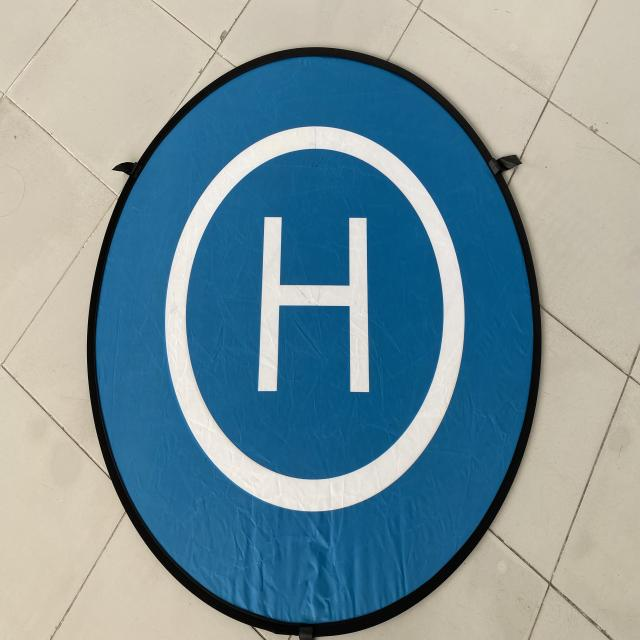helipad: (163, 124, 466, 512)
